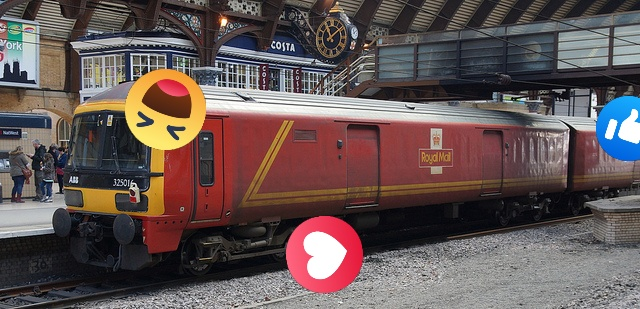haha: (125, 69, 206, 150)
like: (596, 96, 640, 161)
love: (286, 216, 363, 293)
